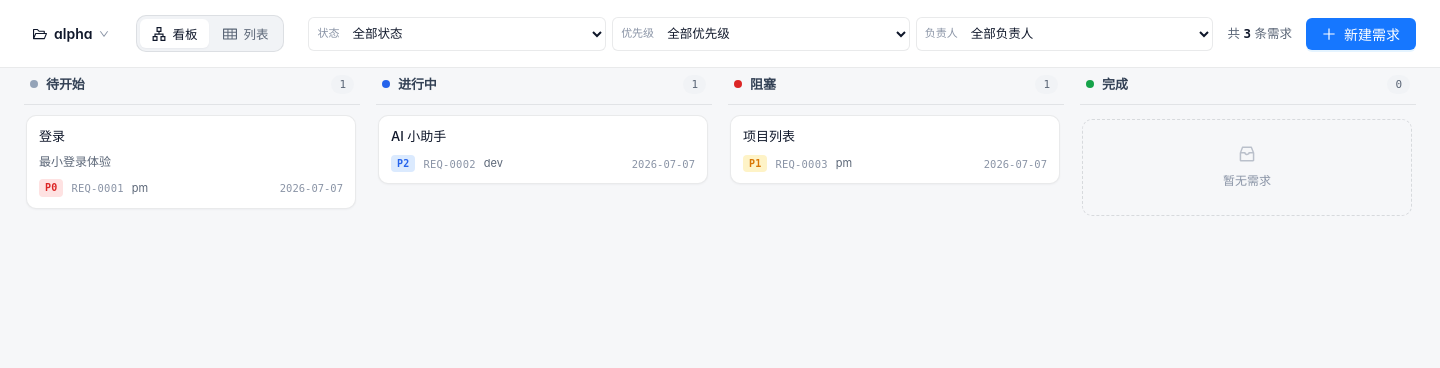
Test: RequirementGrid › 筛选后没有匹配需求时展示清空筛选入口
The image size is (1440, 368).
Step 1. Select "完成" in the dropdown labelled "状态" → (475, 34), box left=344, top=18, right=605, bottom=50
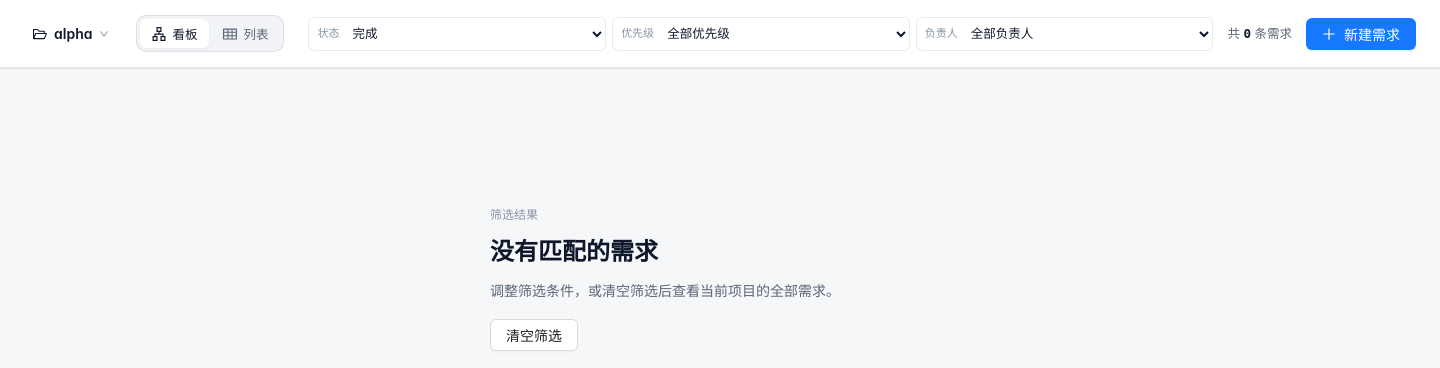
expect the heading "没有匹配的需求" is shown: met, box left=490, top=237, right=658, bottom=267
expect the text "调整筛选条件，或清空筛选后查看当前项目的全部需求。" is shown: met, box left=490, top=279, right=840, bottom=303
Step 2. Click the button "清空筛选" → (534, 335), box left=490, top=319, right=578, bottom=351
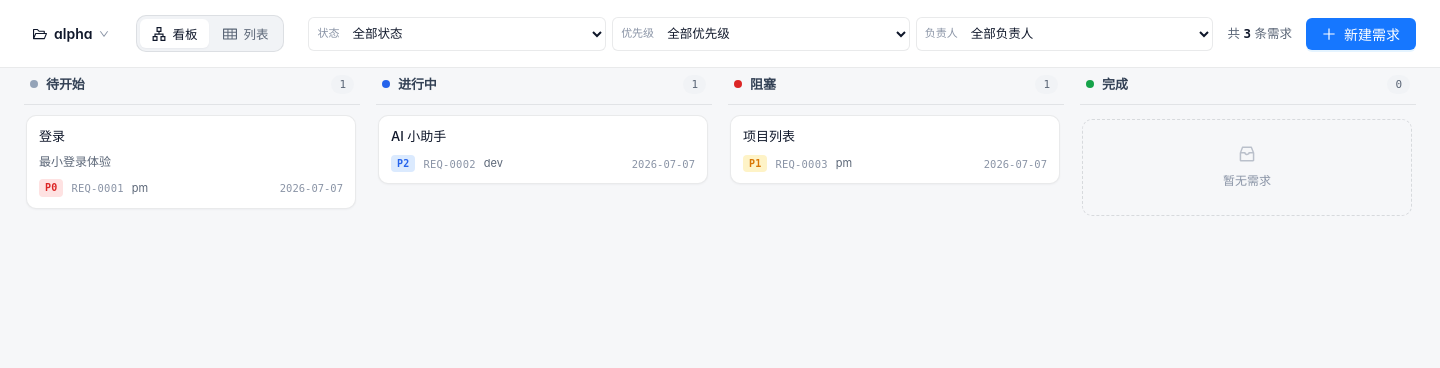
expect the heading "登录" is shown: met, box left=39, top=128, right=65, bottom=144
expect the heading "AI 小助手" is shown: met, box left=391, top=128, right=446, bottom=144
expect the heading "项目列表" is shown: met, box left=743, top=128, right=795, bottom=144
